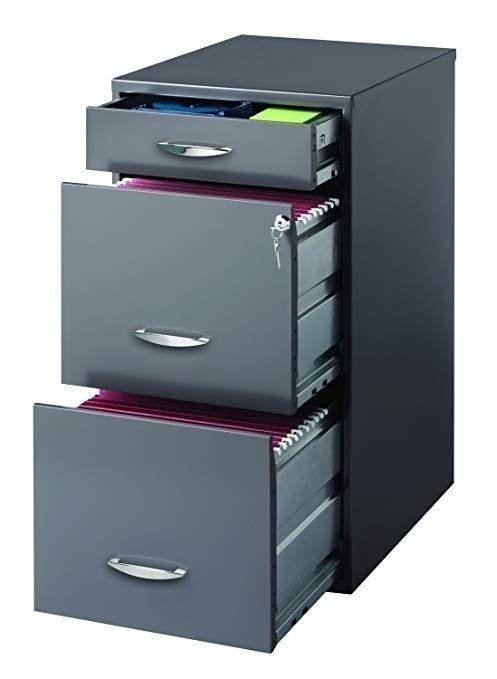cabinet_door: (32, 438, 267, 626), (68, 202, 294, 387), (87, 121, 315, 169)
handle: (105, 550, 191, 592), (131, 320, 214, 356), (158, 137, 235, 163)
